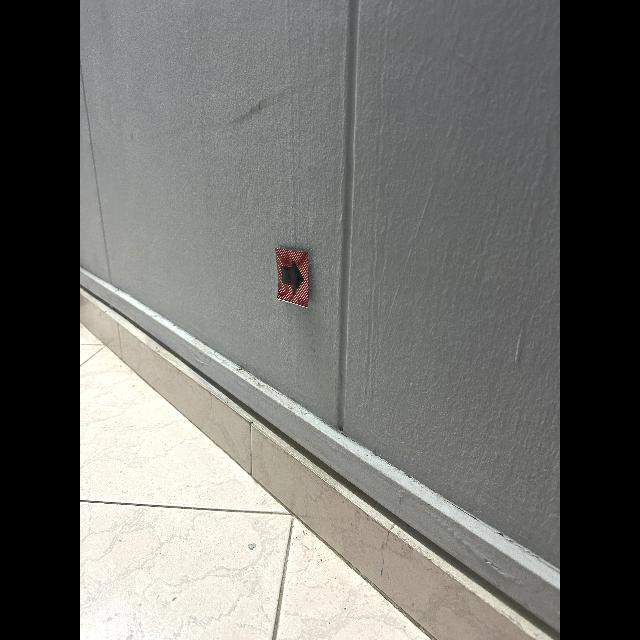RIGHT: (281, 260, 304, 294)
